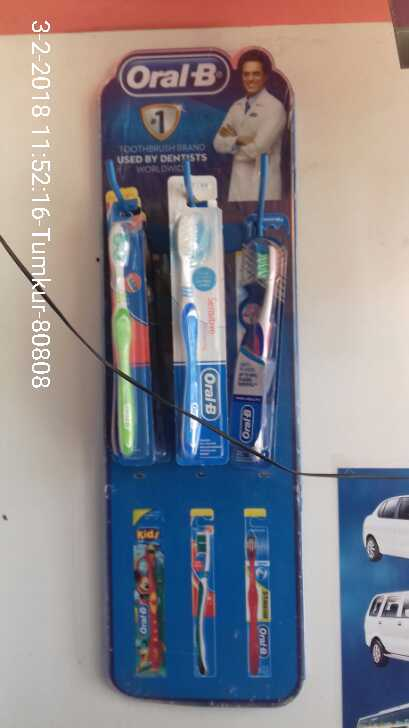oralb: (238, 240, 290, 451), (169, 209, 207, 455), (105, 224, 141, 452)
